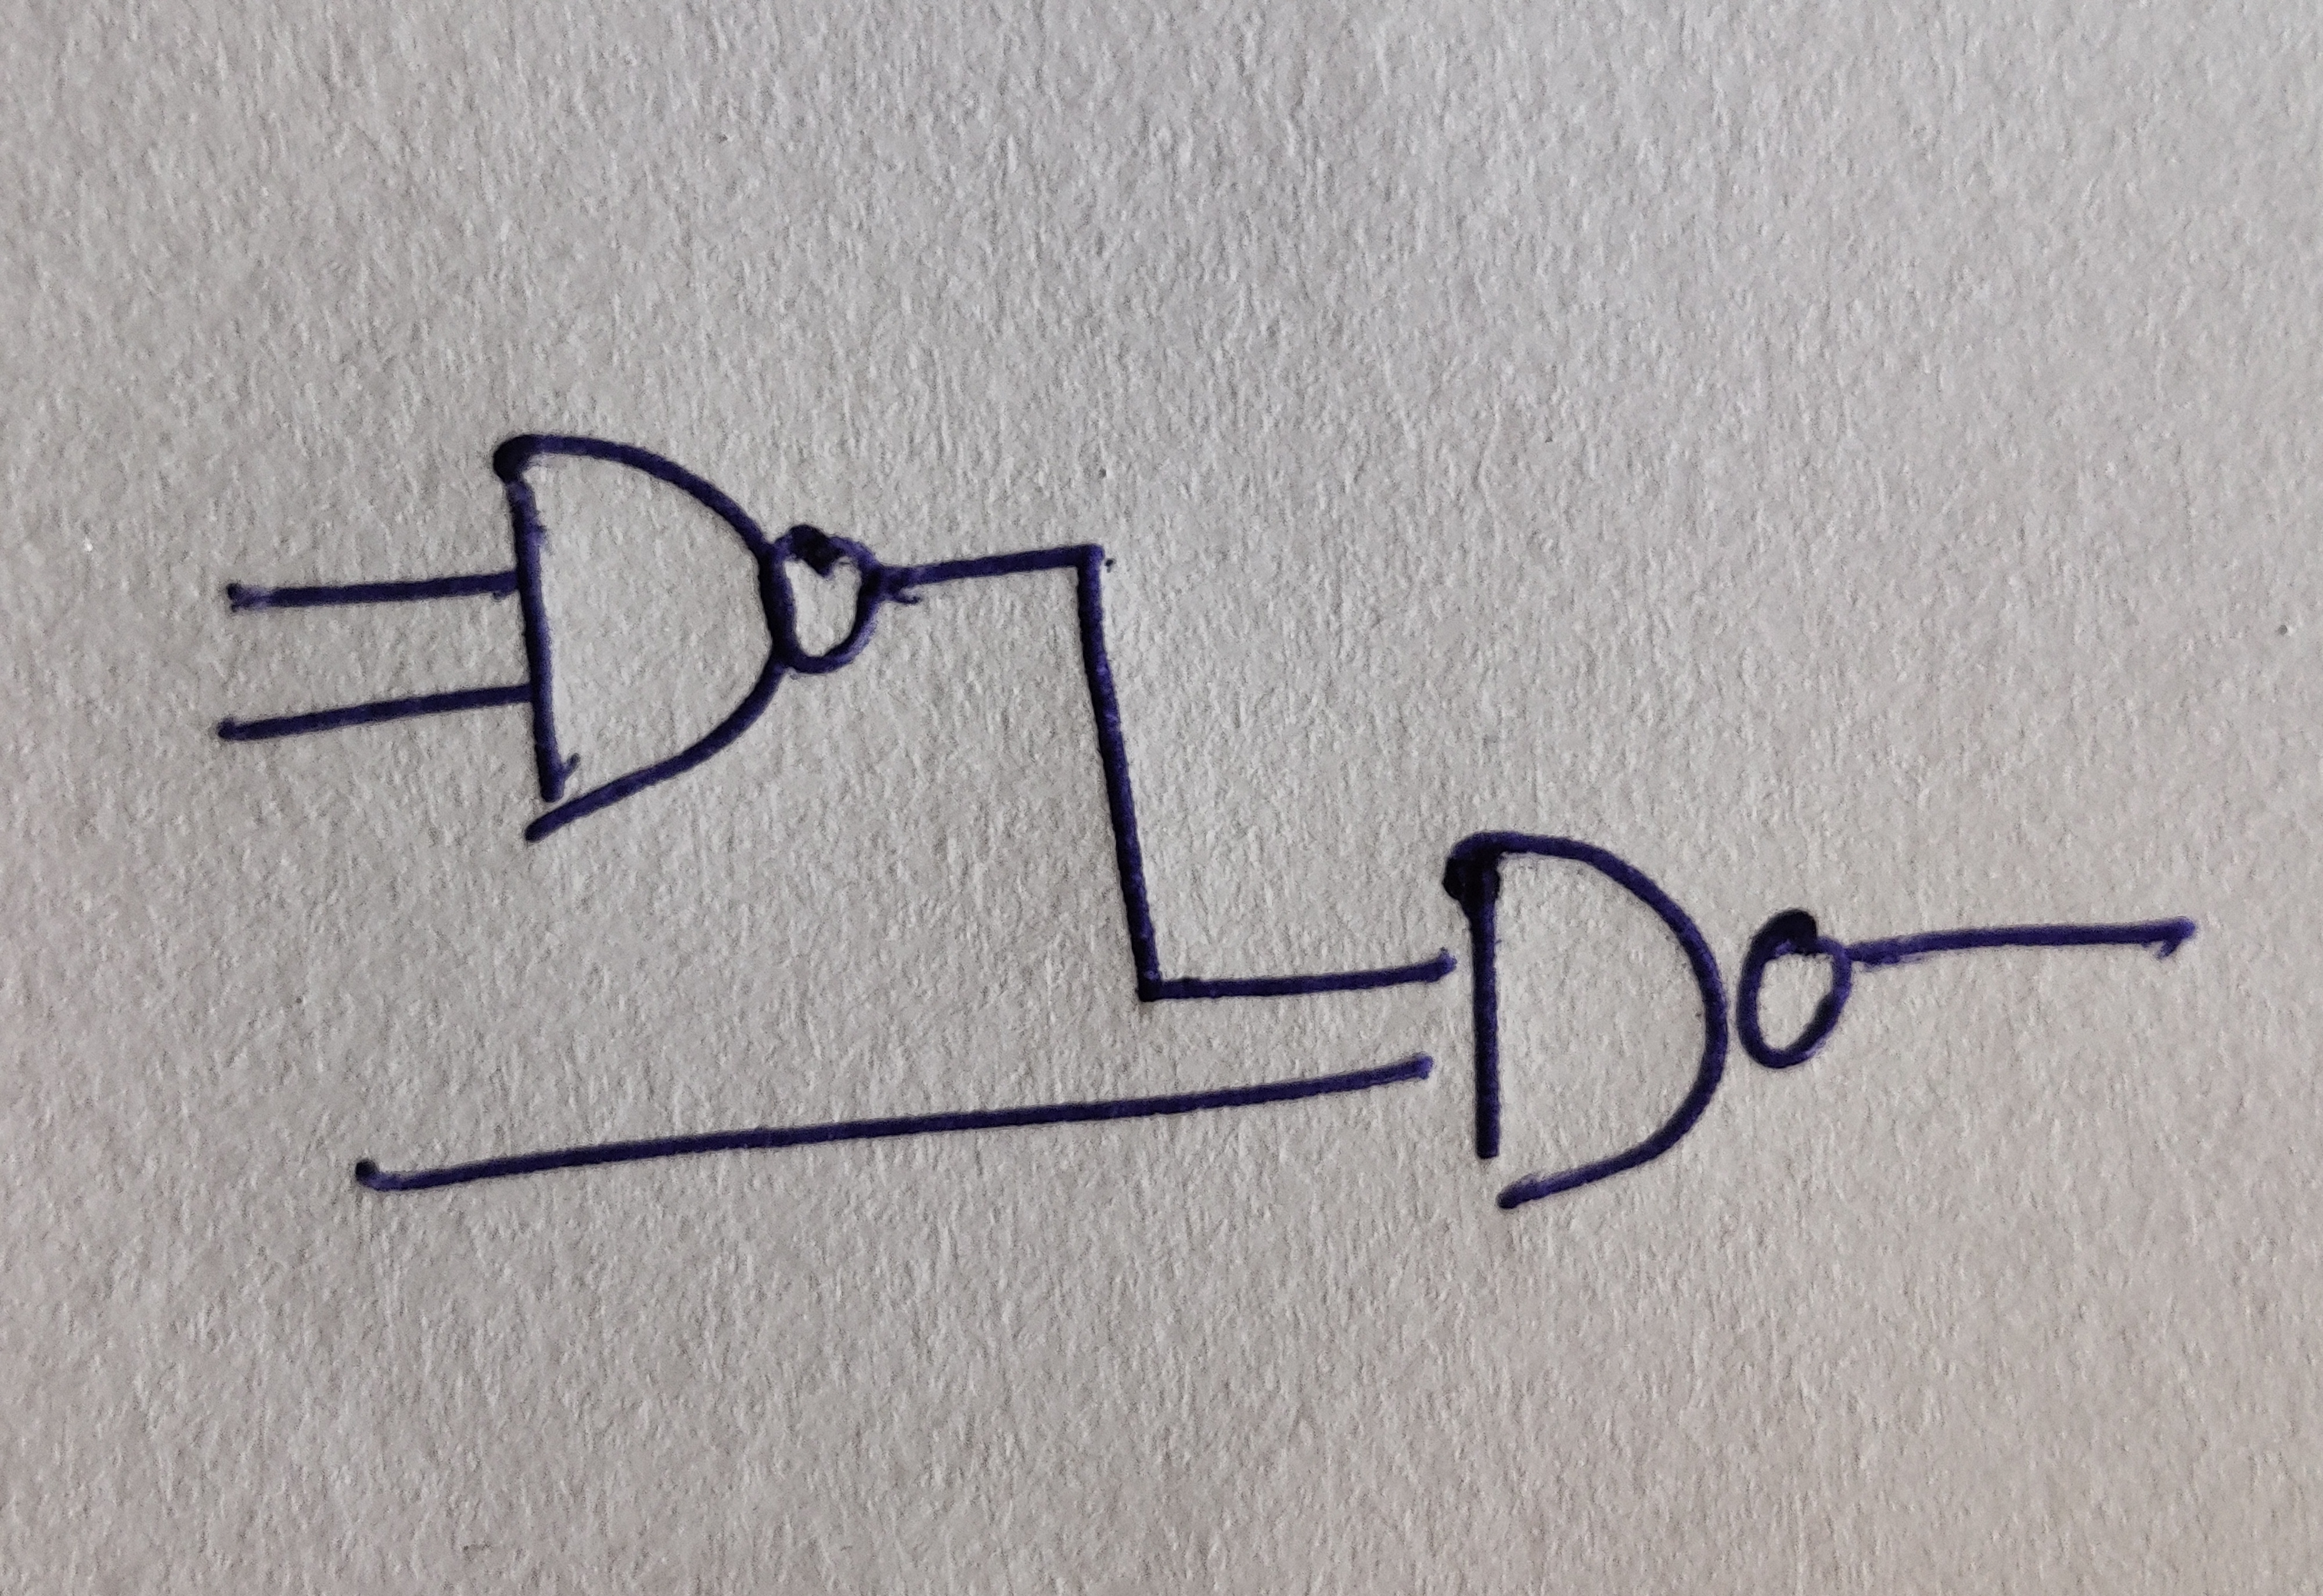and: (492, 434, 796, 842), (1442, 826, 1728, 1209)
not: (1737, 911, 1852, 1070), (771, 526, 883, 674)
